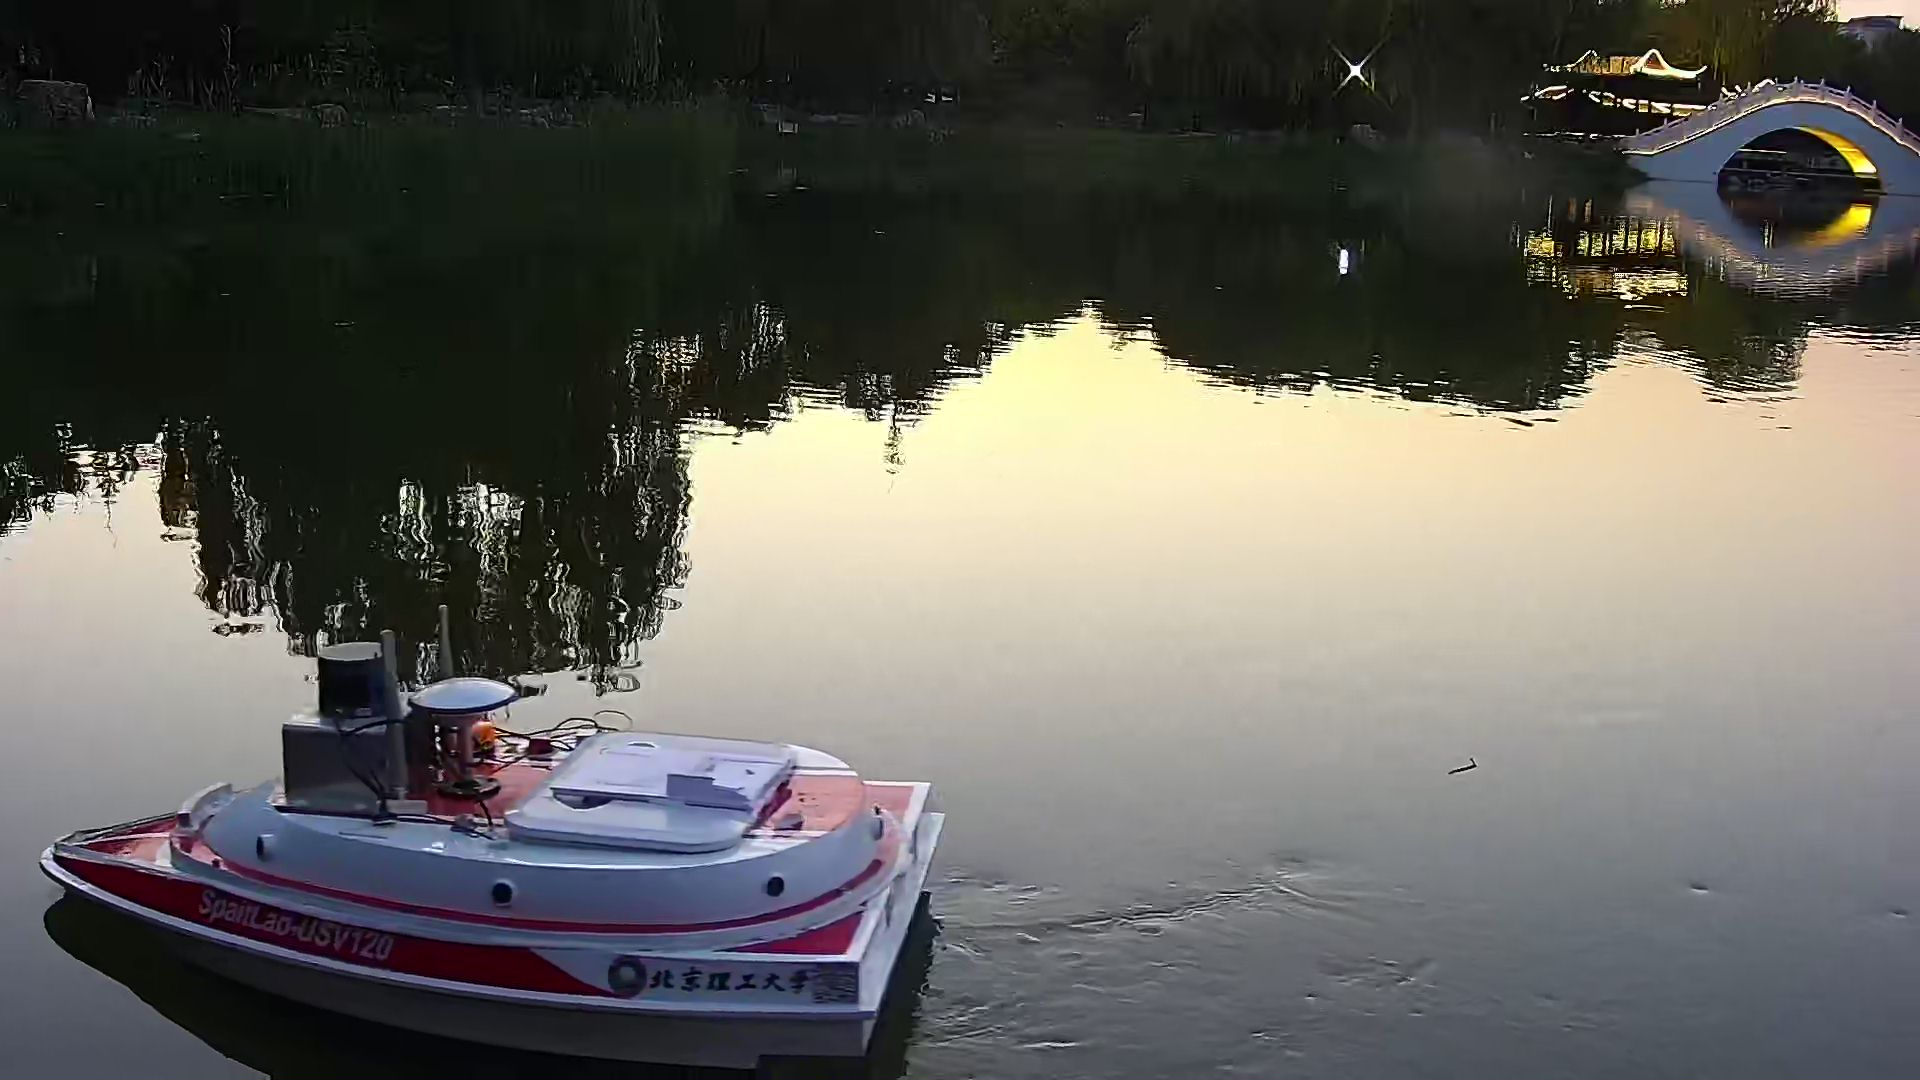boat: (37, 597, 961, 1069)
bridge: (1615, 65, 1920, 189)
